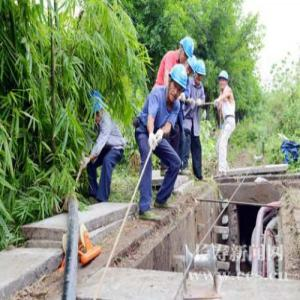blue: (167, 64, 190, 105), (88, 92, 104, 125), (178, 37, 195, 63), (196, 60, 207, 85), (186, 56, 198, 78), (219, 69, 230, 91)
